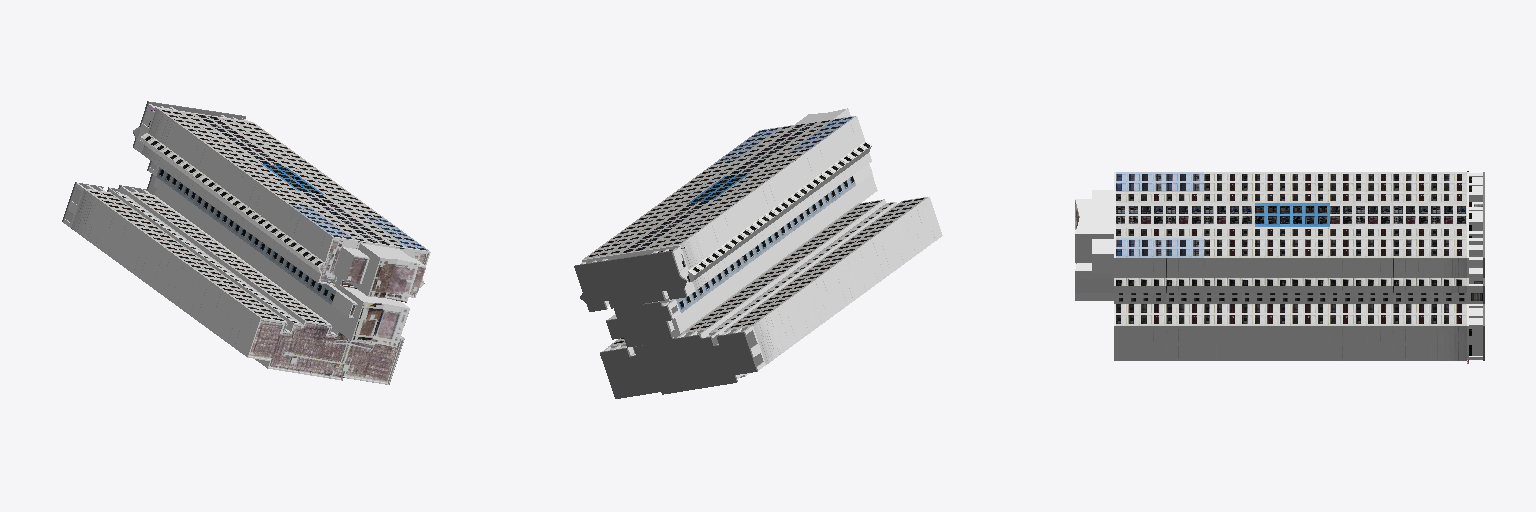
3 views of the same model, side by side, from view 1: azimuth 30°, elevation 25°; view 2: azimuth 150°, elevation 25°; view 3: azimuth 270°, elevation 25° (orthographic).
Parts seen in each view (by area): view 1: polygon.782; view 2: polygon.782; view 3: polygon.782.
Part boxes in pixels (bbox=[...]): polygon.782: bbox=[62, 101, 430, 384]; polygon.782: bbox=[574, 108, 942, 398]; polygon.782: bbox=[1075, 171, 1484, 363].
Size of the model in its own units: 46.27 by 39.12 by 89.62.
Materials: 1 (1 with a texture image).